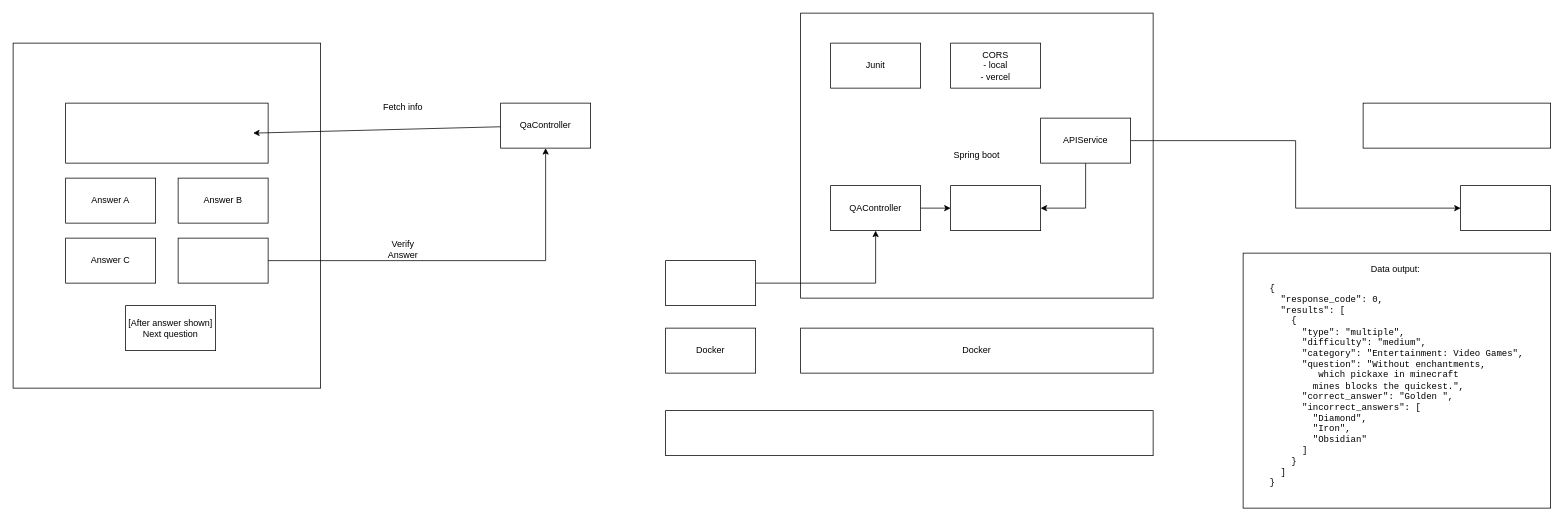
The diagram is 1564 pixels wide and 521 high, and some of its shapes have lost their labels. Here are the shapes that lost their labels. From the top down, the centre of each, then its label:
At point (166, 132): "Question".
At point (1456, 125): "URL: https://opentdb.com/api.php?amount=10".
At point (995, 208): "QAService".
At point (1505, 208): "TriviaAPI".
At point (222, 260): "Answer D".
At point (710, 283): "Frontend (React)".
At point (909, 433): "Vercel".
